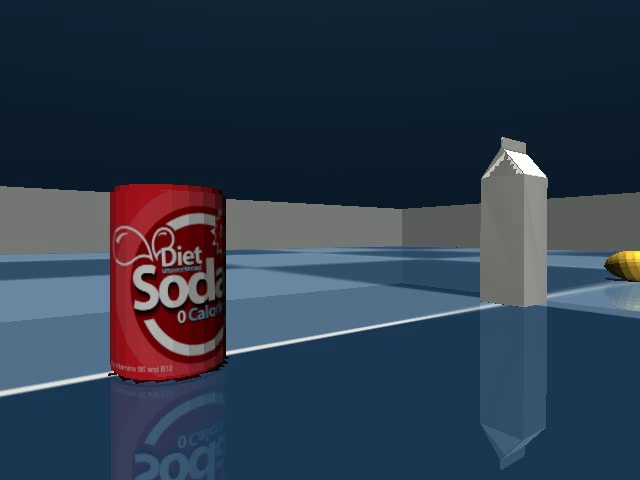can: (100, 176, 237, 389)
lemon: (600, 244, 640, 286)
milk: (472, 126, 556, 317)
